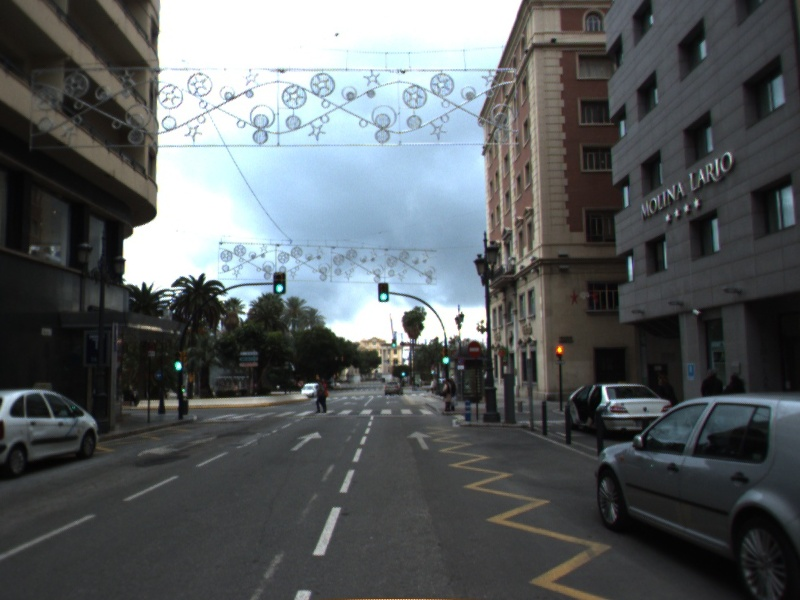STRAIGHT: (288, 430, 324, 453), (405, 429, 434, 452)
STRAIGHT_LEFT: (134, 434, 219, 458)
